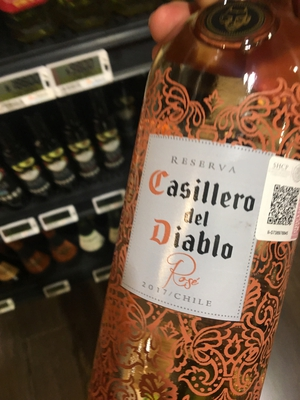casillero del diablo rose: (106, 1, 297, 400)
